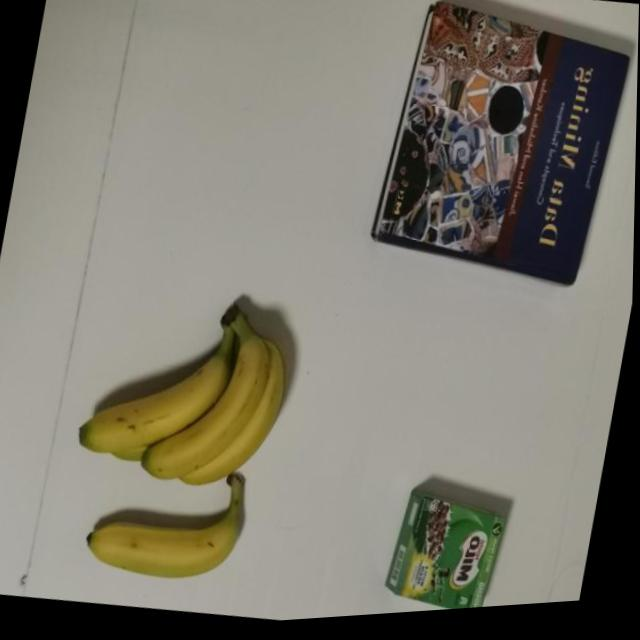Banana: (73, 283, 311, 508), (80, 456, 259, 605)
Book: (353, 0, 640, 317)
Cerealbox: (374, 480, 533, 620)
